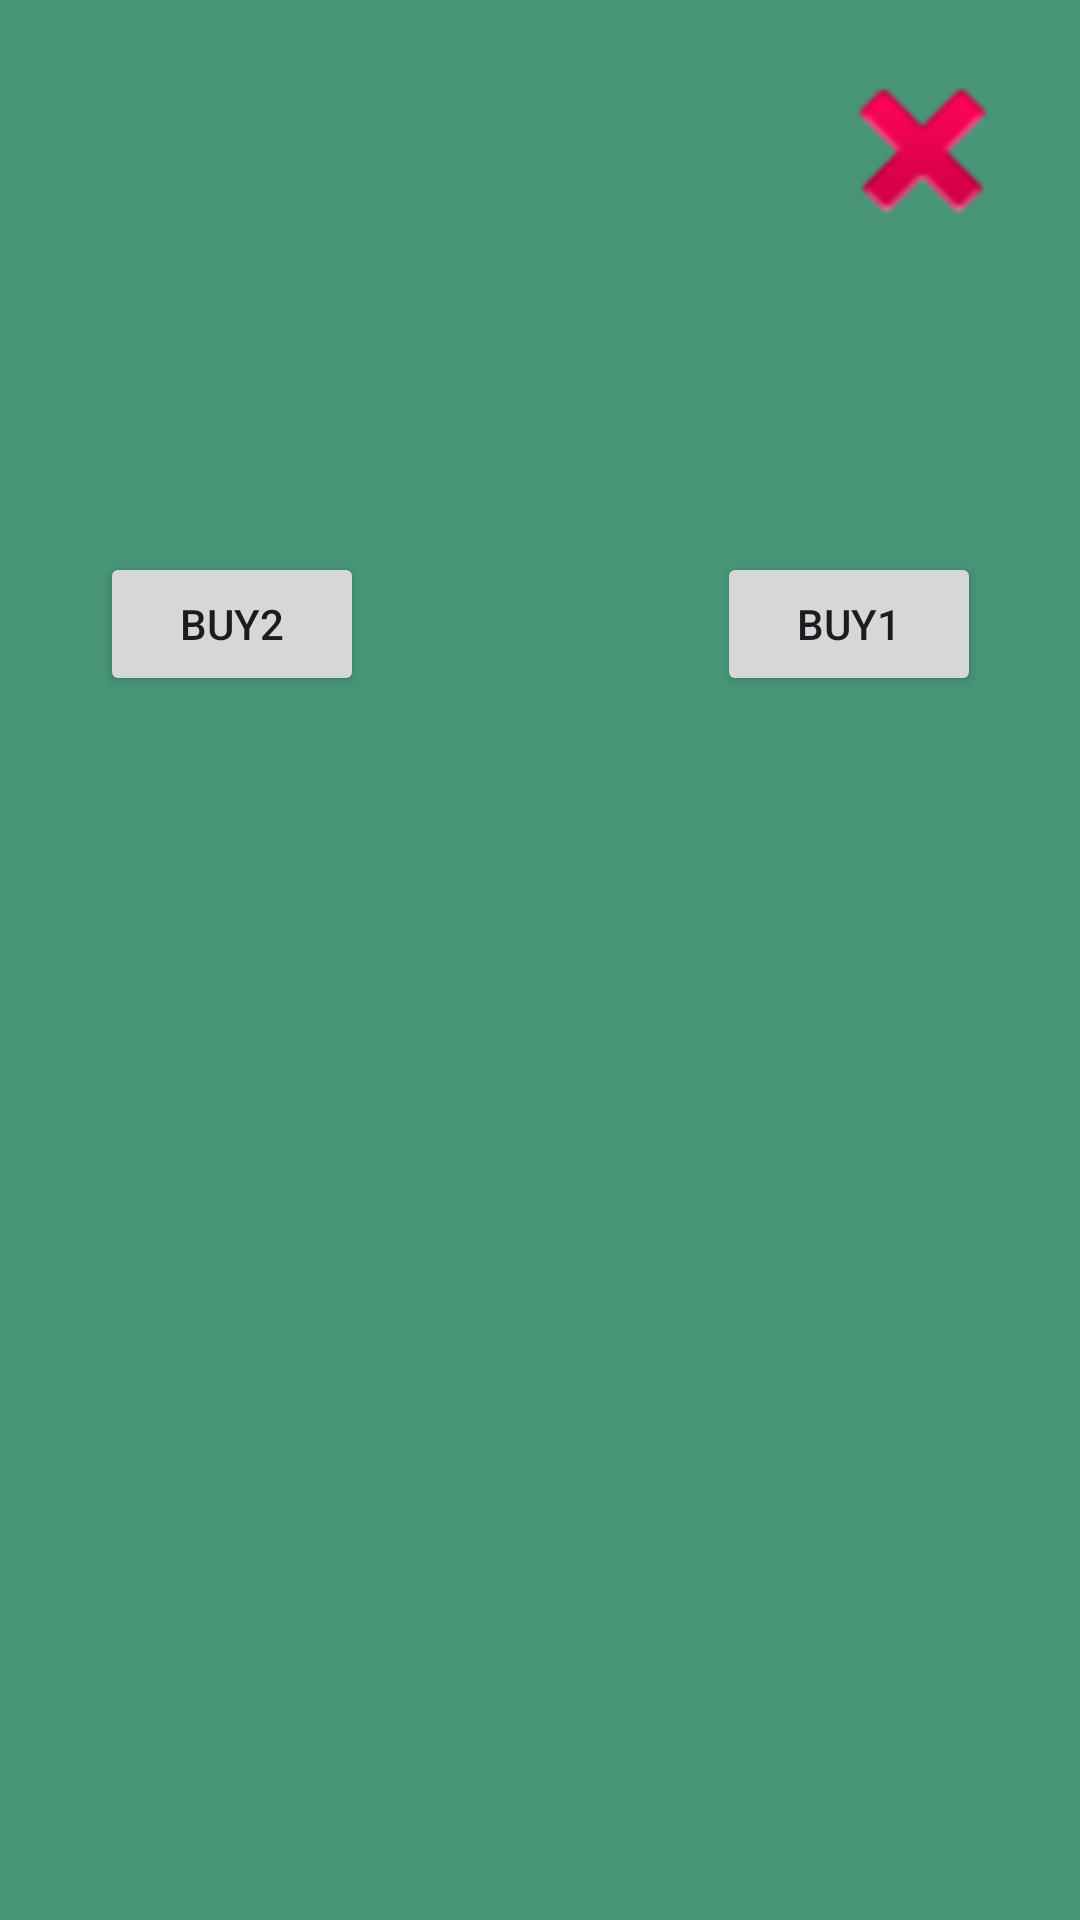

Icon bounding boxes for this 1080×1920 phone screenshot, format [left=x1, top=y1, right=x2, bottom=y2]:
delete: [left=858, top=88, right=987, bottom=214]
